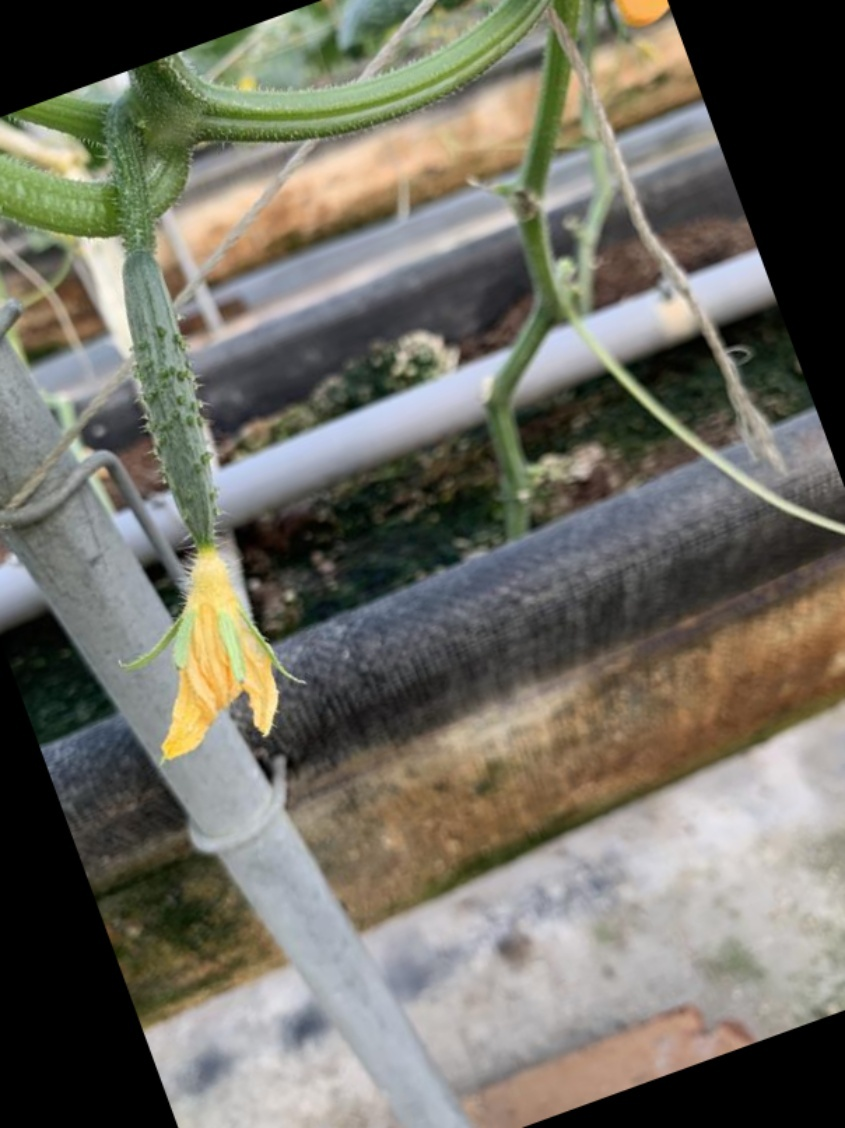bear: (90, 221, 321, 750)
